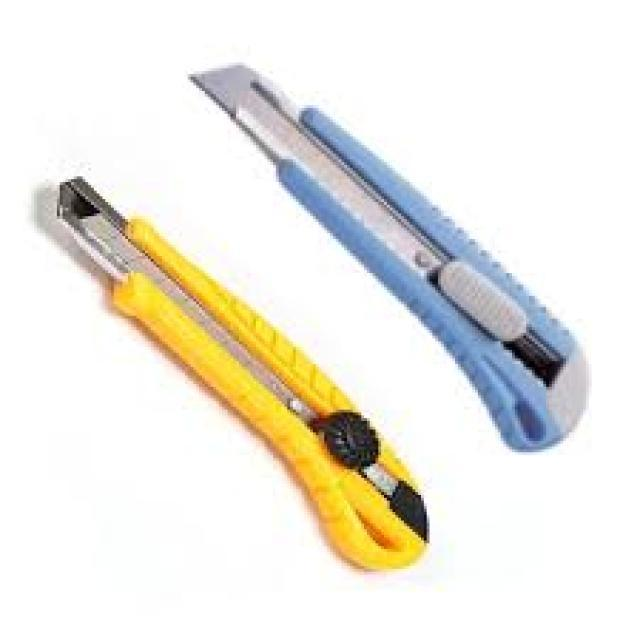cutter: (182, 55, 606, 462), (44, 162, 430, 574)
